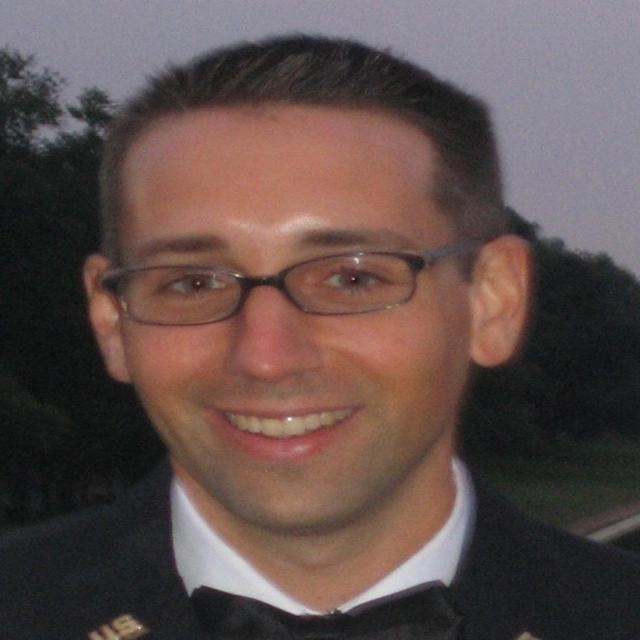nomask: (120, 122, 472, 535)
